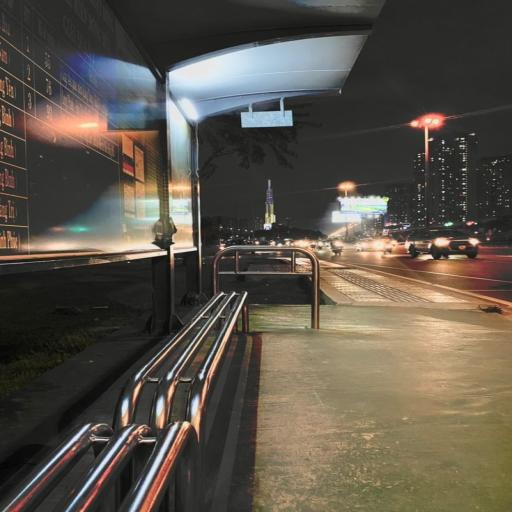bicycle: (1, 0, 390, 512)
book: (402, 221, 488, 264)
